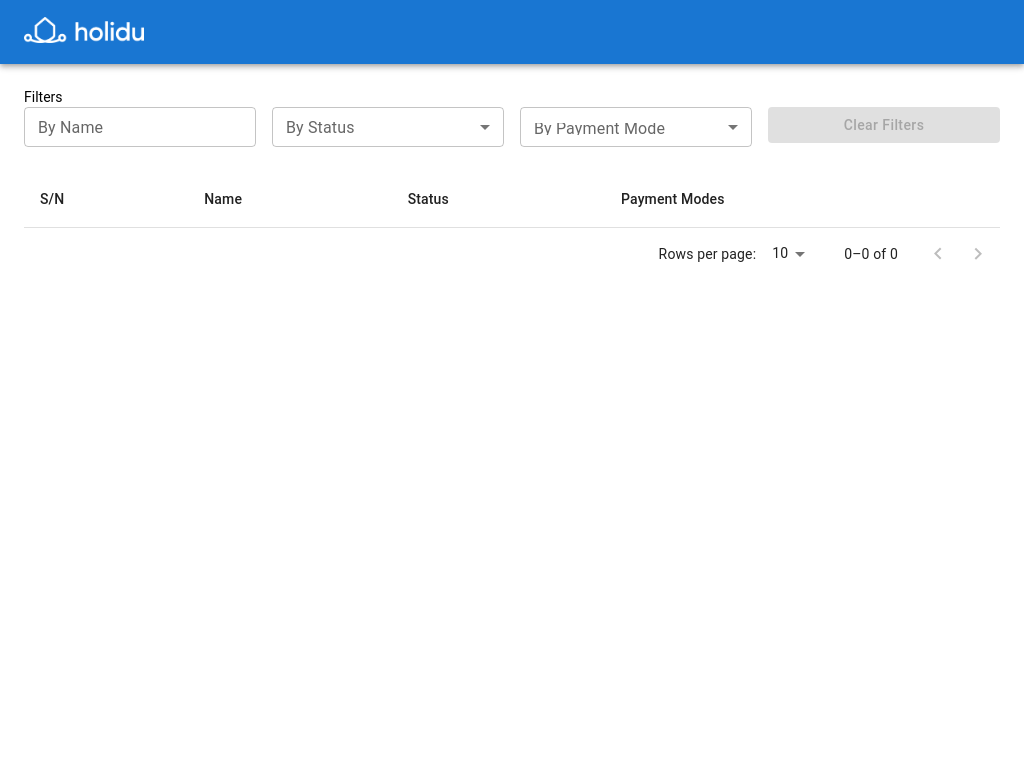
Scenario: should clear search input when clear button is clicked
Type "hello" into the search field labelled "By Name" at (140, 127), box [24, 107, 256, 147]
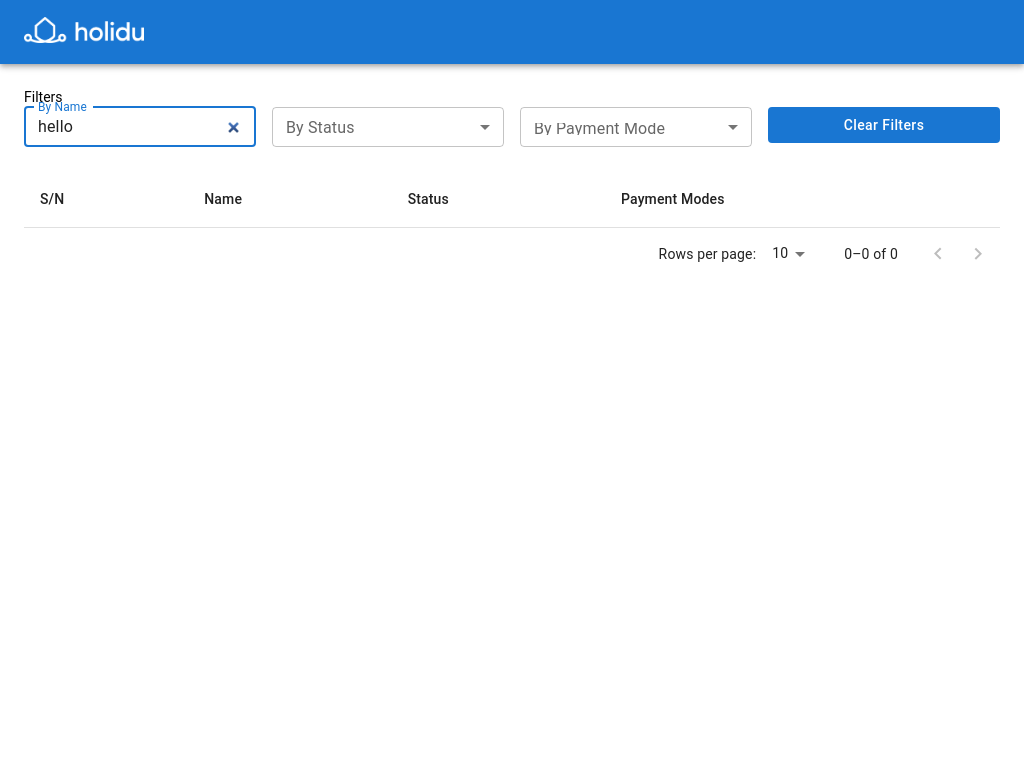
Click the button with test id "filterBtn" at (884, 125), box [768, 107, 1000, 143]
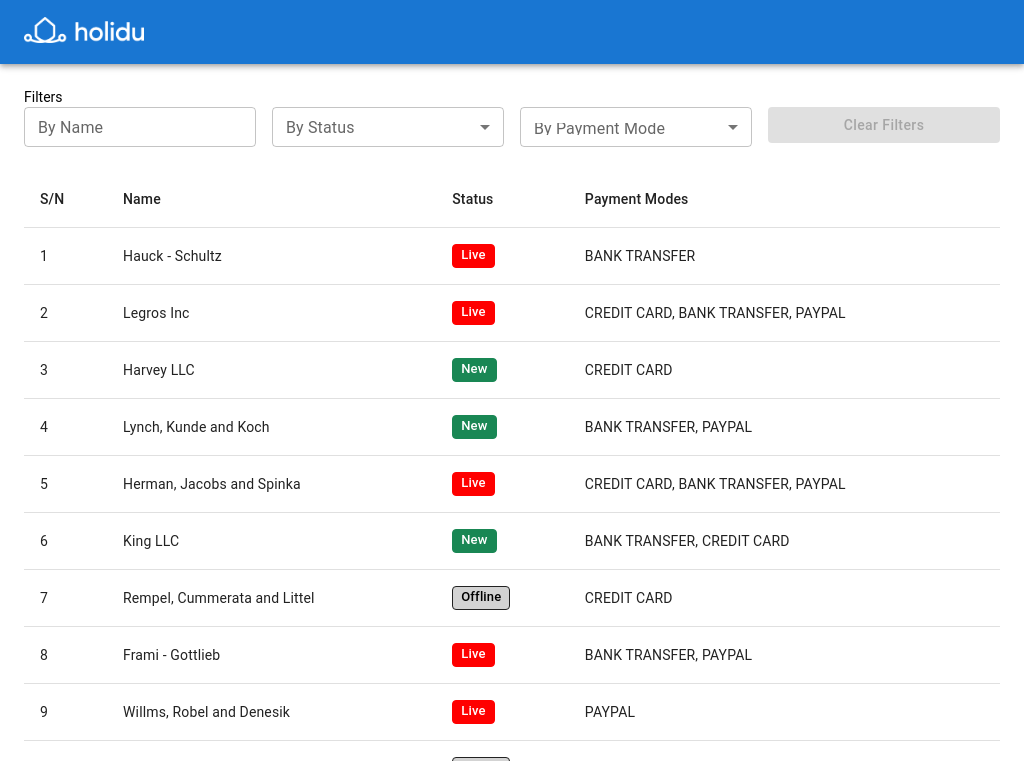
Result: the search field labelled "By Name" is empty at [24, 107, 256, 147]
